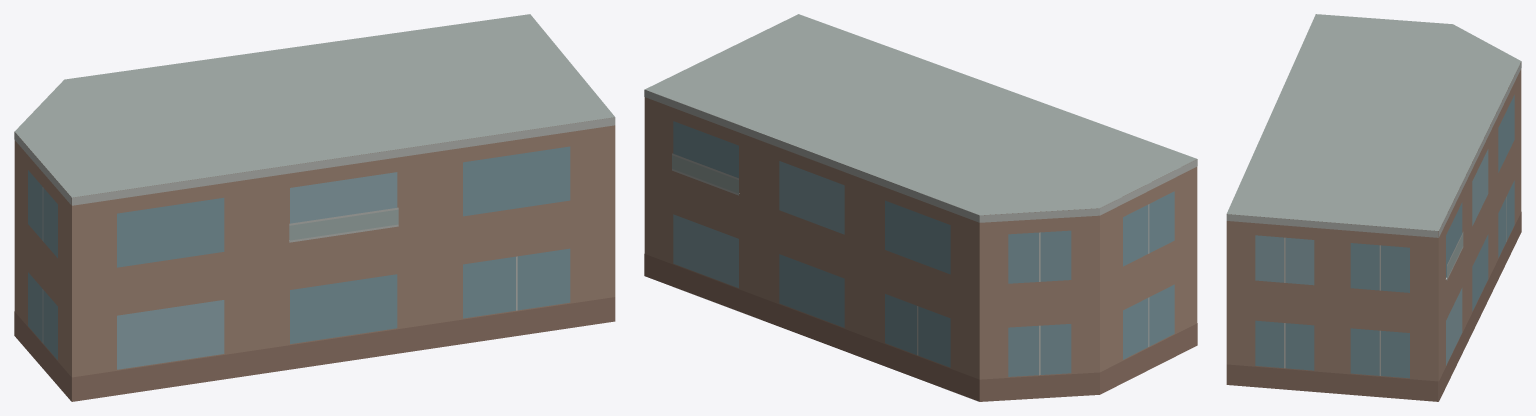
File: survey-upis-32721759.glb
The picture shows the model from 3 angles, left to right: view 1: azimuth 30°, elevation 25°; view 2: azimuth 150°, elevation 25°; view 3: azimuth 270°, elevation 25°; orthographic projection. The views are drawn at different scales.
Parts seen in each view (by area): view 1: survey-upis-32721759.tmp; view 2: survey-upis-32721759.tmp; view 3: survey-upis-32721759.tmp.
Part boxes in pixels (bbox=[...]): survey-upis-32721759.tmp: bbox=[14, 14, 615, 401]; survey-upis-32721759.tmp: bbox=[644, 14, 1197, 401]; survey-upis-32721759.tmp: bbox=[1226, 14, 1521, 401].
Size of the model in its own units: 16.64 by 6.1 by 9.56.
